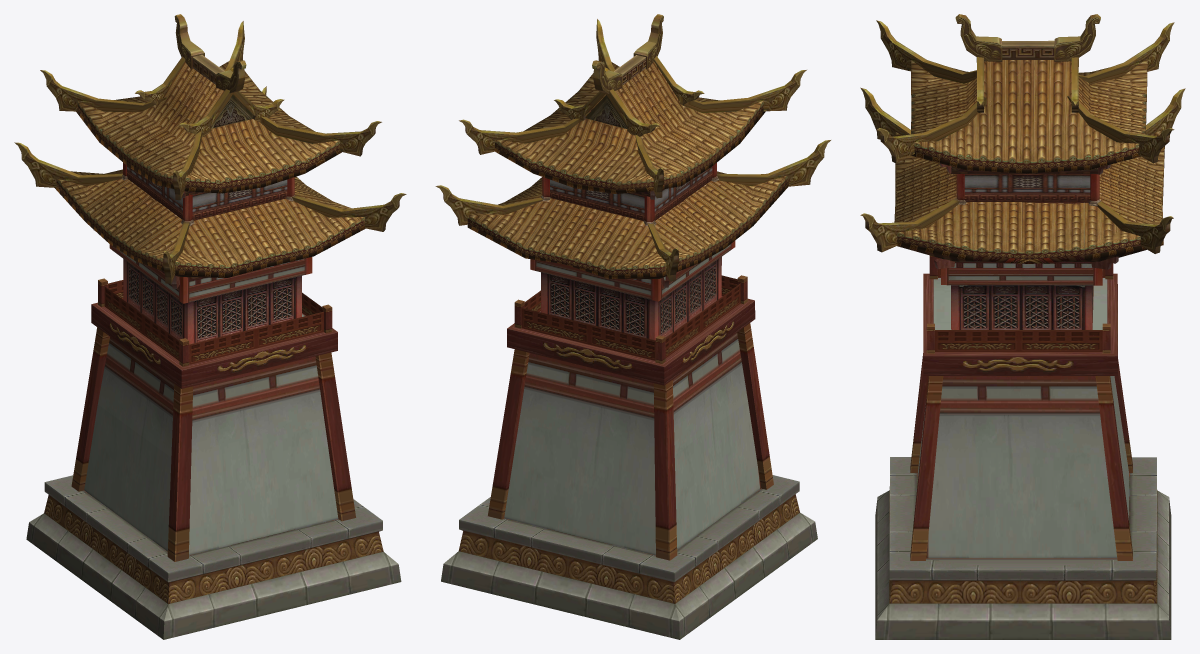
File: Yland1_t_03 Yland1.FBX
The picture shows the model from 3 angles, left to right: view 1: azimuth 30°, elevation 25°; view 2: azimuth 150°, elevation 25°; view 3: azimuth 270°, elevation 25°; orthographic projection. The views are drawn at different scales.
Parts seen in each view (by area): view 1: Yland1_t_03 Yland1; view 2: Yland1_t_03 Yland1; view 3: Yland1_t_03 Yland1.
Boxes of the visible parts, bbox=[...] form: Yland1_t_03 Yland1: bbox=[14, 14, 406, 639]; Yland1_t_03 Yland1: bbox=[435, 14, 830, 639]; Yland1_t_03 Yland1: bbox=[860, 14, 1185, 639].
Bounding box in the file's own units: 7.92 × 15.86 × 8.34.
